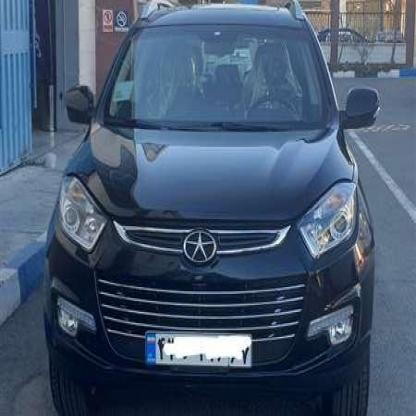Car: (44, 0, 381, 416)
